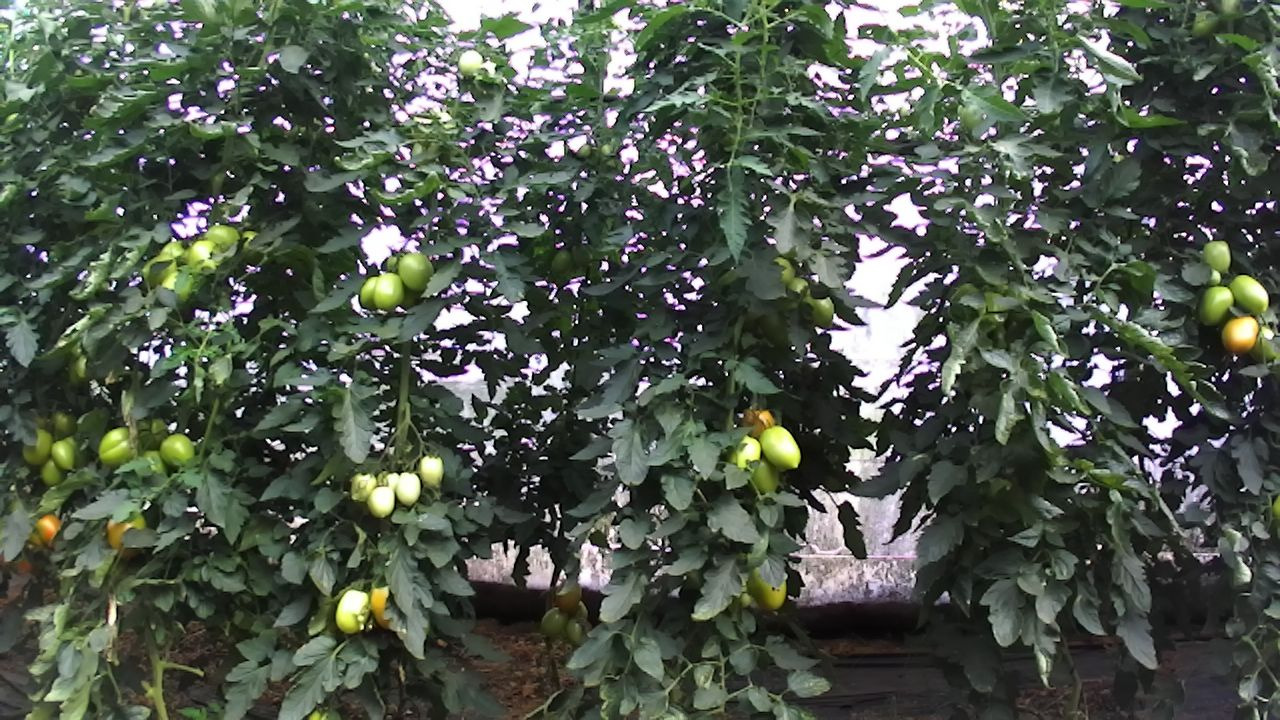tomato: (743, 565, 790, 614), (757, 421, 802, 472), (1226, 272, 1270, 316), (1195, 283, 1236, 328), (1218, 313, 1261, 355), (334, 587, 371, 635), (798, 285, 836, 330), (395, 250, 436, 291), (97, 424, 136, 467), (18, 426, 55, 468), (372, 270, 405, 311), (158, 432, 194, 467), (36, 454, 70, 489), (1201, 239, 1233, 276), (415, 453, 446, 489), (393, 470, 421, 508), (365, 485, 396, 519), (539, 604, 570, 638), (348, 468, 378, 503), (456, 45, 485, 79), (49, 439, 77, 472), (554, 583, 582, 616)
